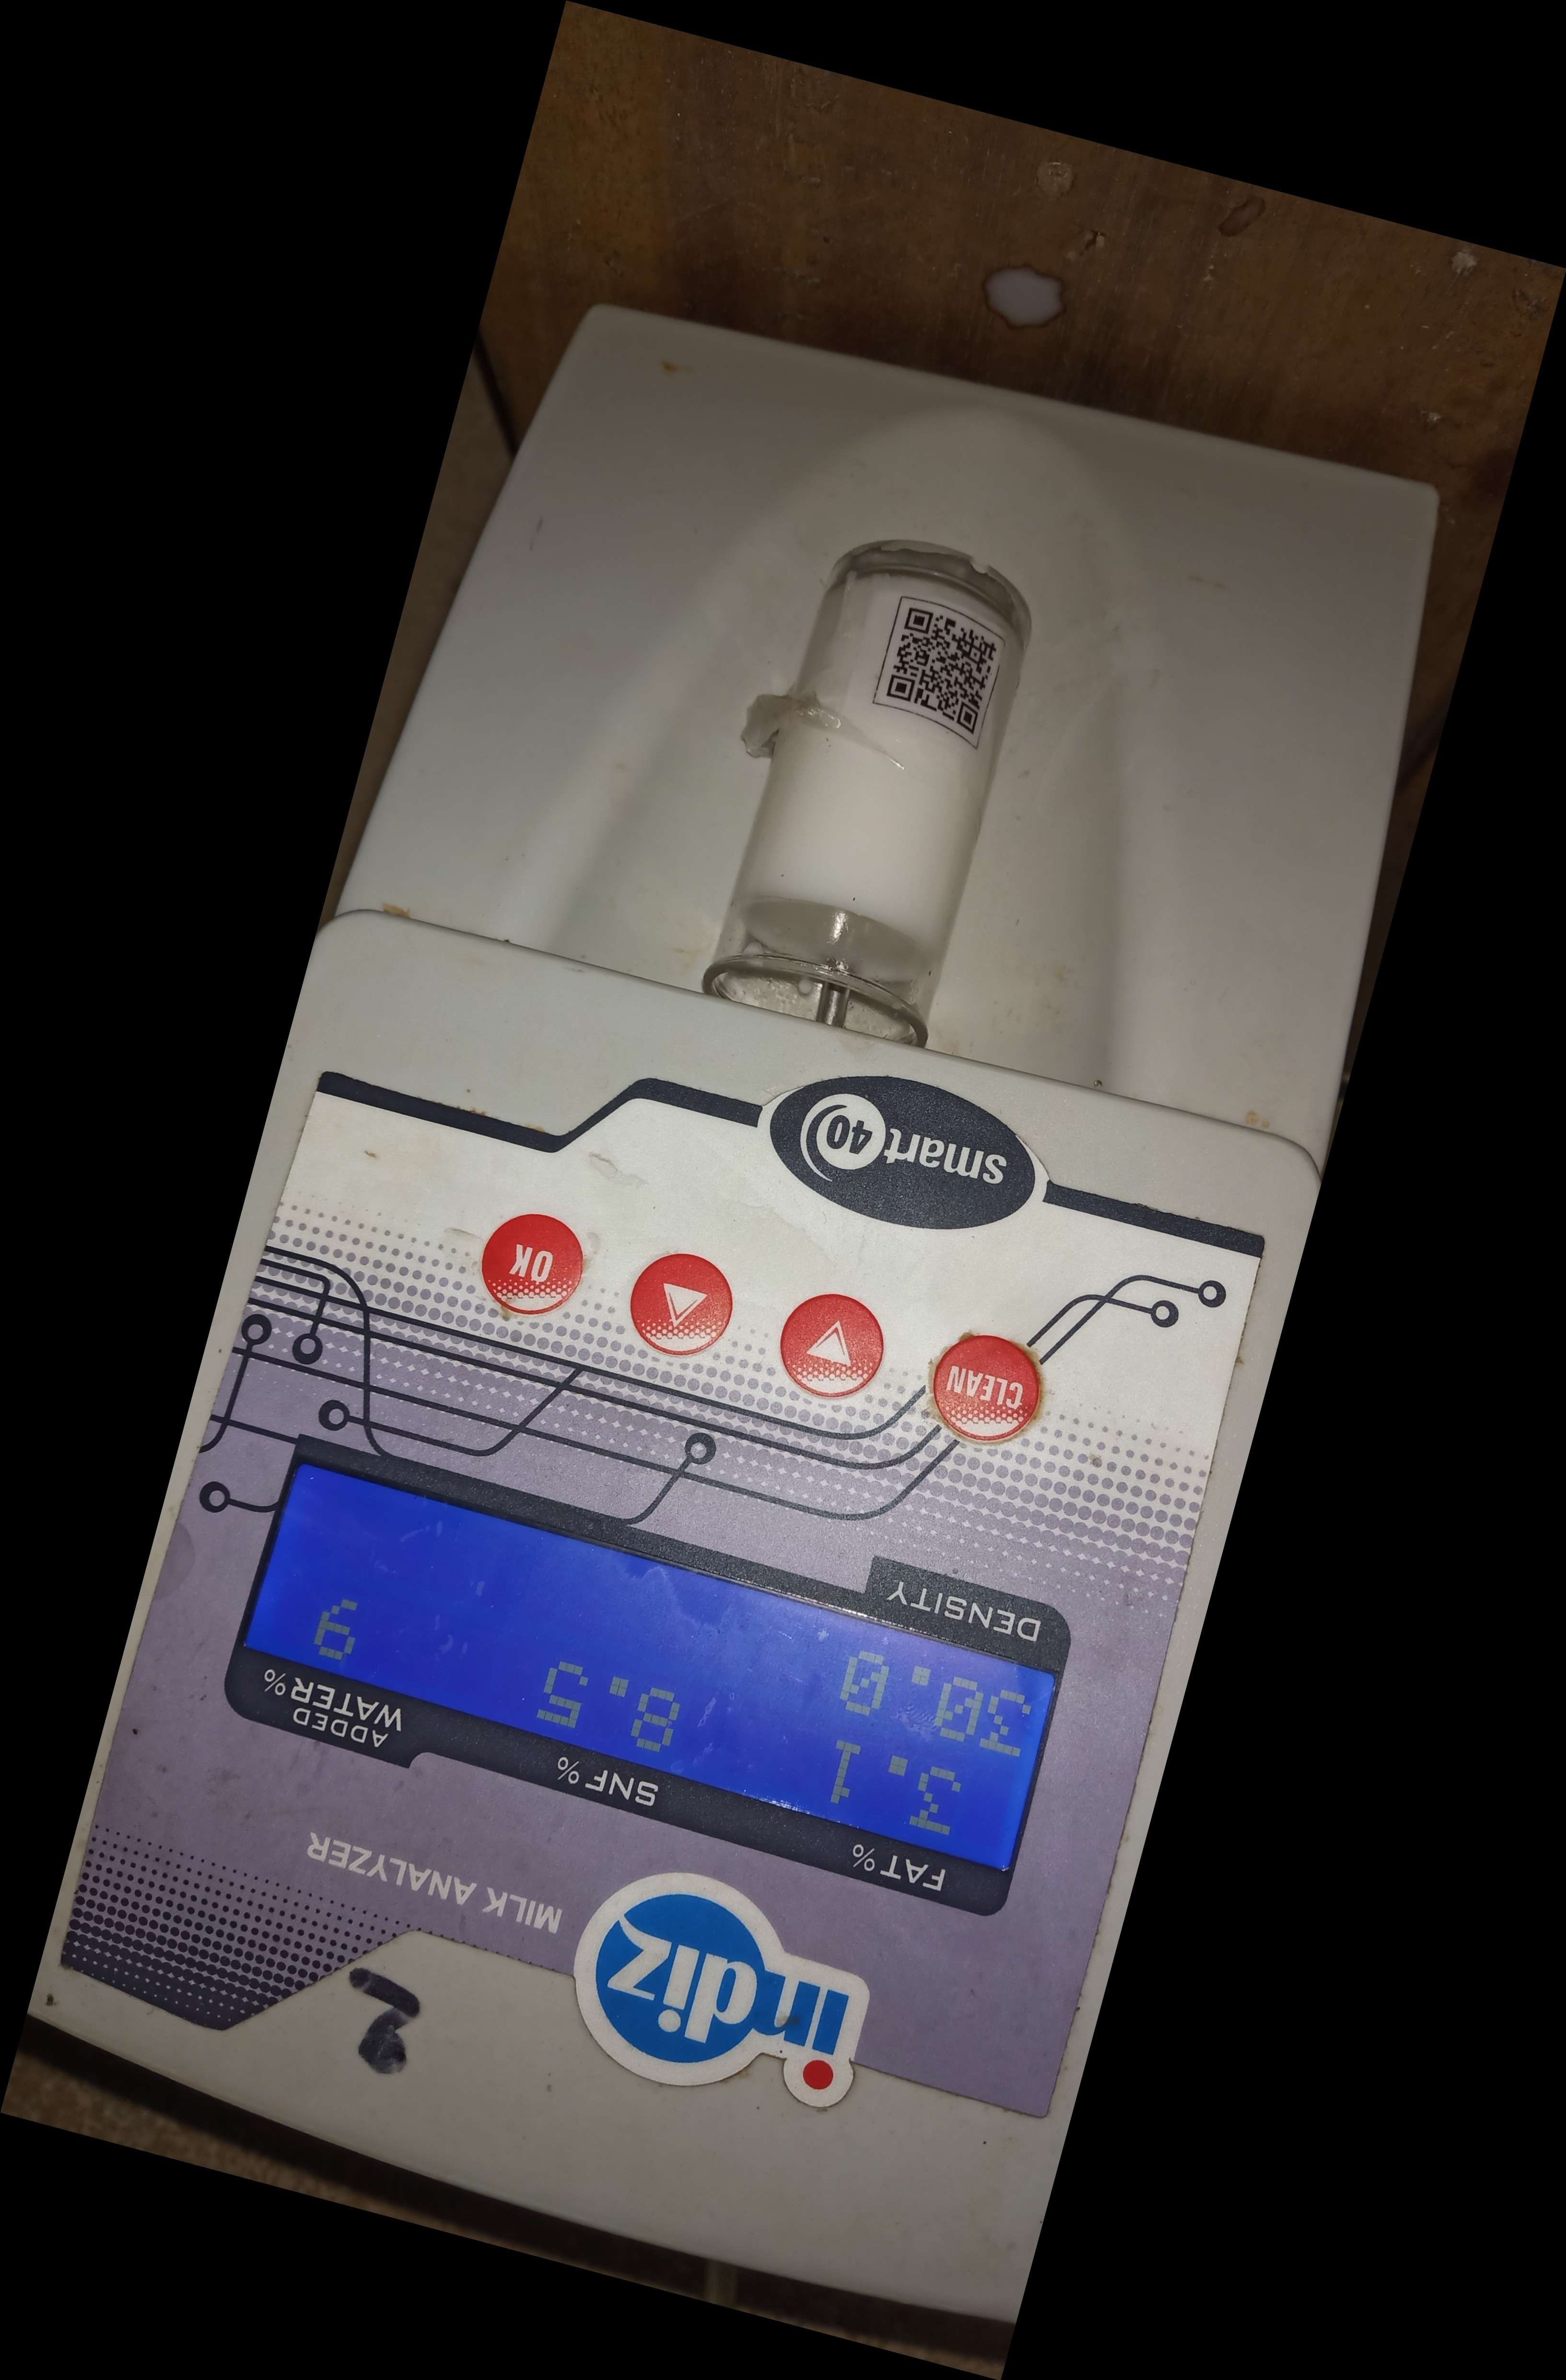lcd: (204, 1412, 1098, 1954)
qr: (869, 582, 1028, 772)
